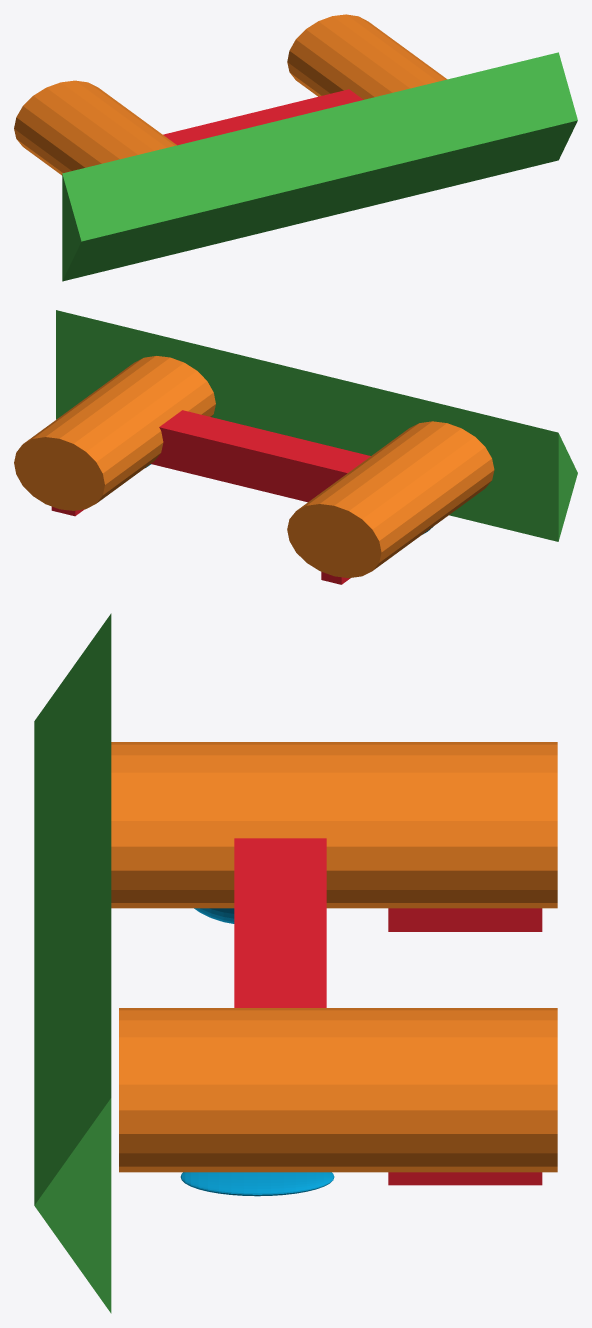
Rendered from tinker.obj.
3 renders of one model, top to bottom at view 1: azimuth 30°, elevation 25°; view 2: azimuth 150°, elevation 25°; view 3: azimuth 270°, elevation 25°, orthographic. The views are drawn at different scales.
Visible parts, largest first — view 1: group_0_4634441, group_0_16089887, group_0_15277357; view 2: group_0_16089887, group_0_4634441, group_0_15277357; view 3: group_0_16089887, group_0_4634441, group_0_15277357, group_0_40919.
Part boxes in pixels (x1,y1,x2,y2): group_0_4634441: (62,52,577,281); group_0_16089887: (14,14,447,175); group_0_15277357: (163,89,363,145); group_0_16089887: (14,356,494,577); group_0_4634441: (56,310,577,541); group_0_15277357: (51,410,370,584); group_0_16089887: (111,742,557,1172); group_0_4634441: (34,613,111,1313); group_0_15277357: (234,838,542,1185); group_0_40919: (180,908,334,1196).
Size of the model in its own units: 149 by 31 by 68.
